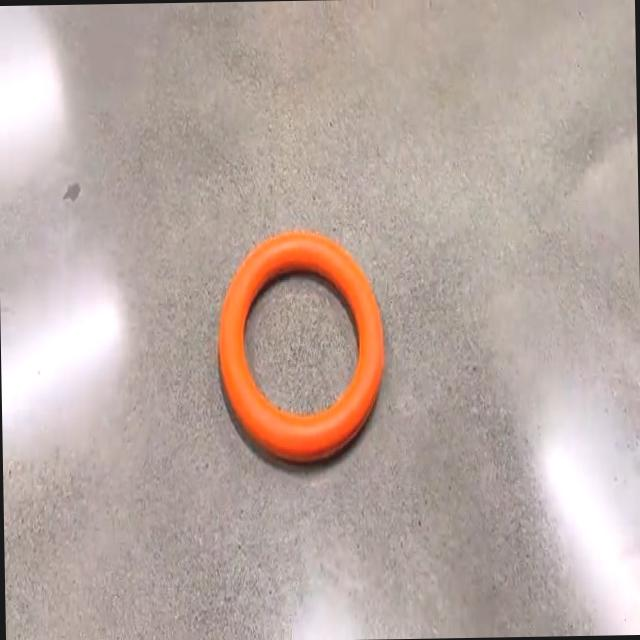note: (218, 231, 383, 461)
